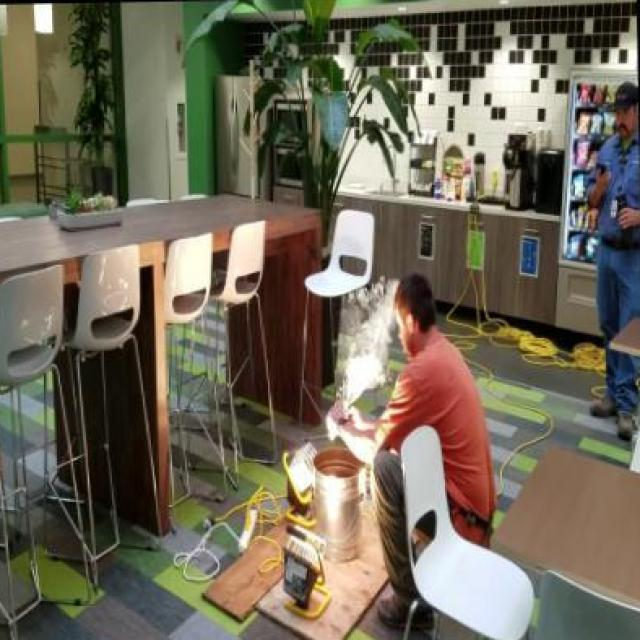fire: (333, 266, 400, 404)
